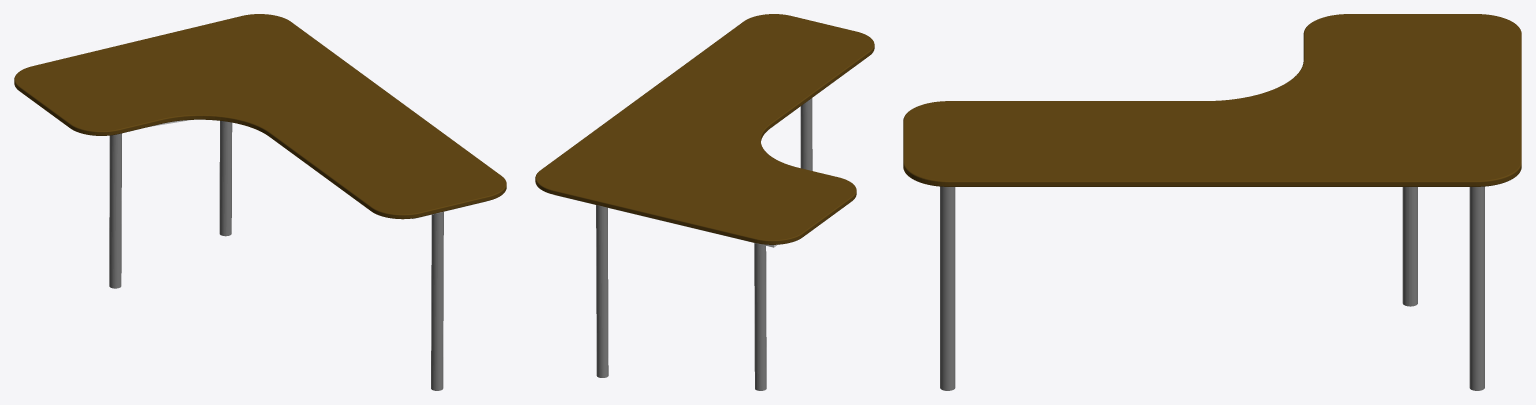
Rendered from desk.fbx.
The picture shows the model from 3 angles, left to right: view 1: azimuth 30°, elevation 25°; view 2: azimuth 150°, elevation 25°; view 3: azimuth 270°, elevation 25°; orthographic projection. The views are drawn at different scales.
Visible parts, largest first — view 1: Plane, leg, leg.001; view 2: Plane, leg, leg.001; view 3: Plane, leg, leg.001.
Part boxes in pixels (box(x1,y1,x2,y2)): Plane: box(14, 14, 506, 219); leg: box(219, 121, 443, 390); leg.001: box(109, 133, 121, 288); Plane: box(535, 14, 874, 244); leg: box(596, 98, 812, 377); leg.001: box(754, 243, 766, 390); Plane: box(903, 14, 1521, 186); leg: box(940, 186, 1484, 390); leg.001: box(1402, 187, 1417, 306).
Size of the model in its own units: 128 by 89.15 by 202.
